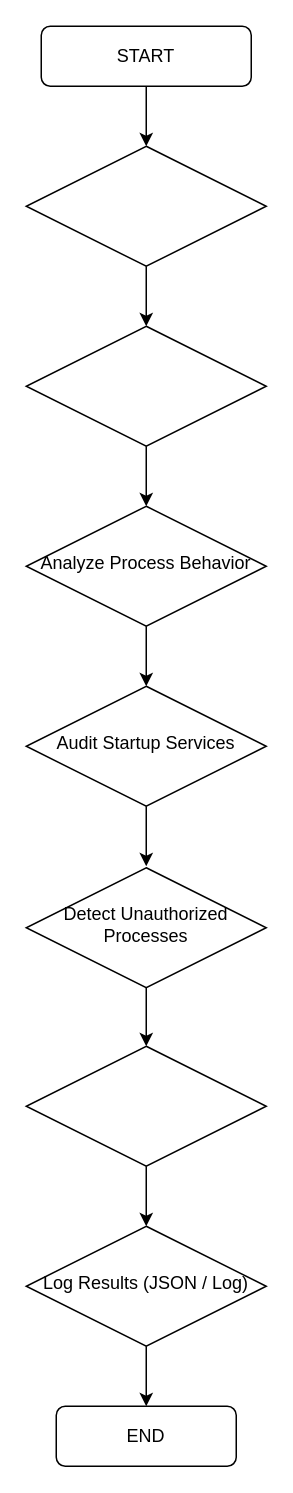
The diagram is 293 pixels wide and 1493 high, and some of its shapes have lost their labels. Each missing label, with the centre of its shape:
"Build Parent-Child Relationship" belongs at point 145,385.
"Collect Processes & Services" belongs at point 145,205.
"Generate Alerts" belongs at point 145,1105.
